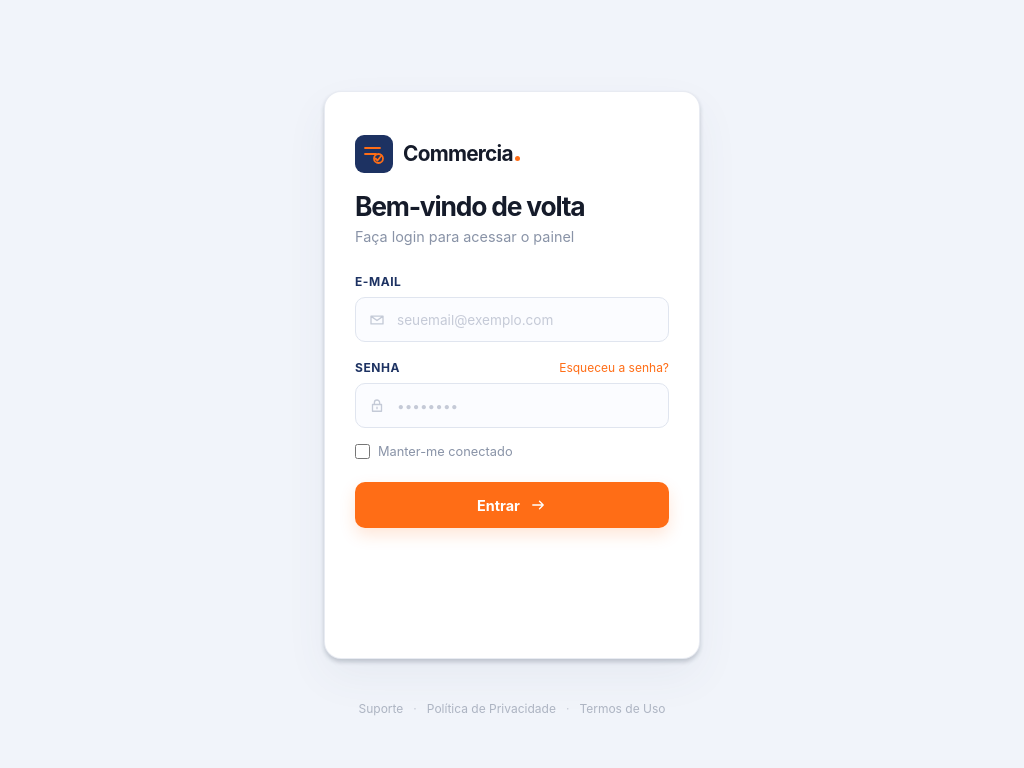
Scenario: retries a failed client list refresh without deactivating the client twice
Type "admin" into the field labelled "E-mail".
click(512, 320); type("admin")  # box [355,297,669,342]
Type "secret" into the password field labelled "Senha".
click(512, 406); type("secret")  # box [355,383,669,428]
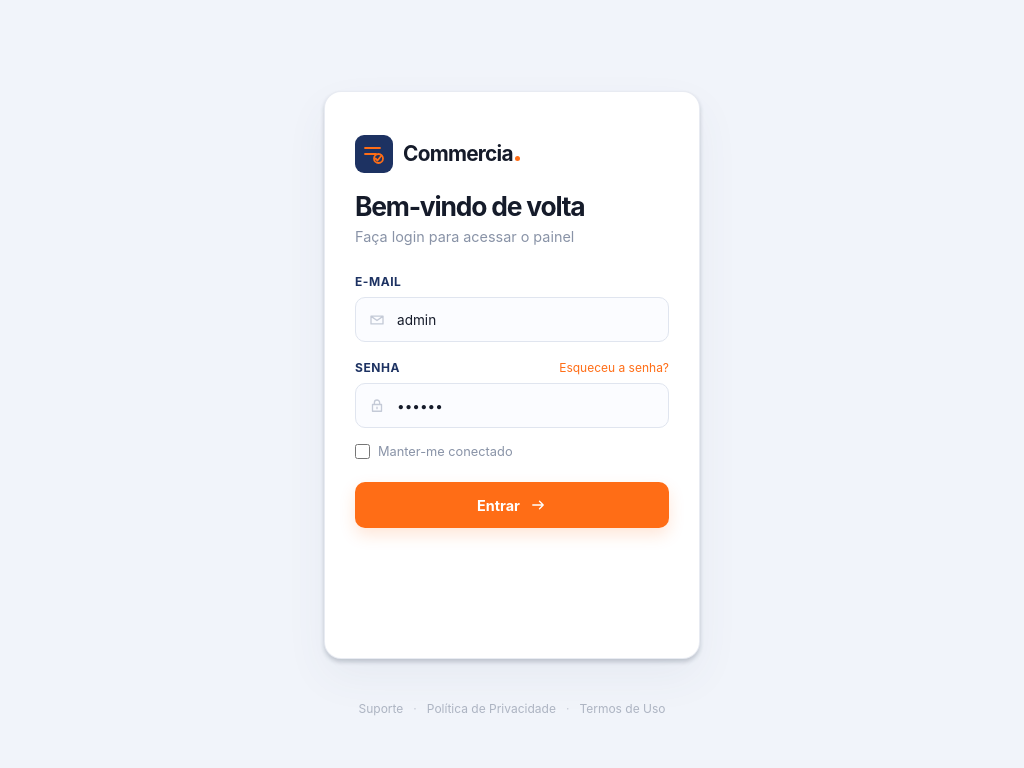
Submit the form "E-mail Senha Esqueceu a senha? Manter-me conectado Entrar", box [355,274,669,528]
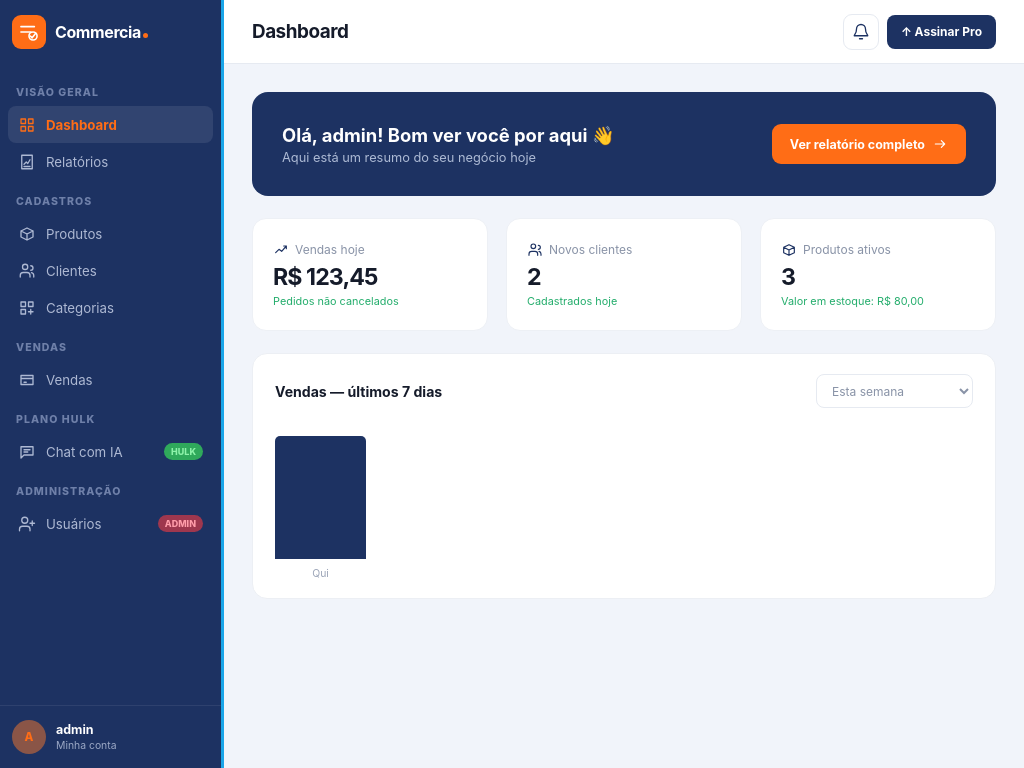
Now the heading "Dashboard" is shown, box [252,20,348,43]
Click the button "Clientes".
click(110, 270)  # box [8,252,213,289]
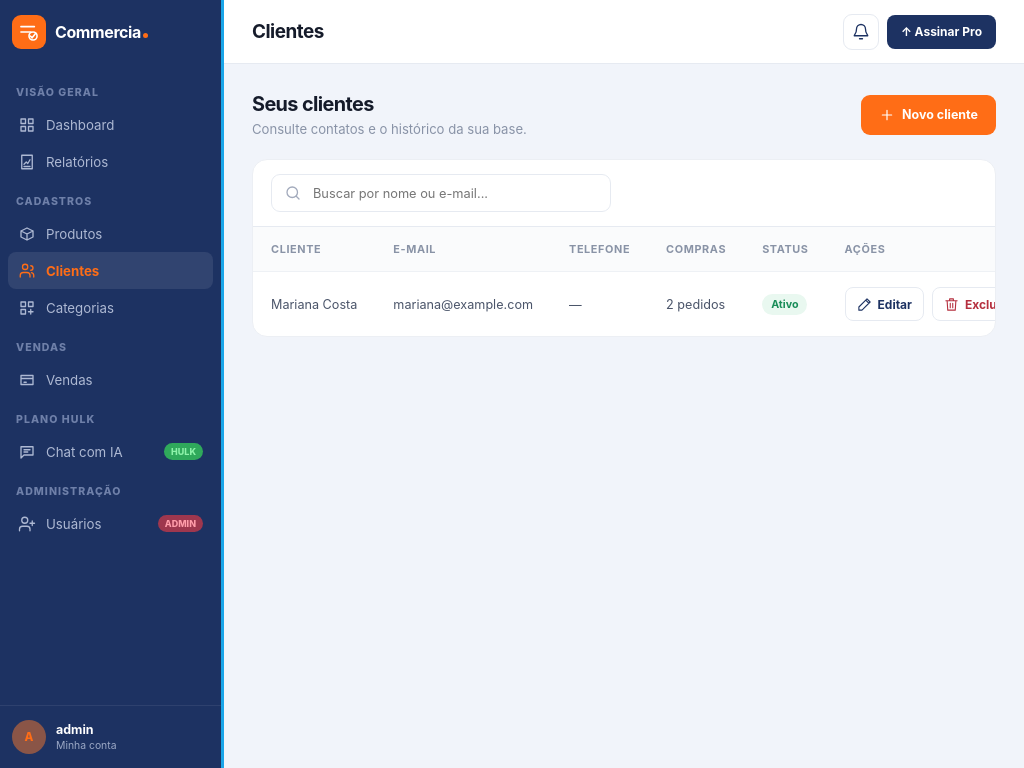
Click the button with aria-label "Excluir Mariana Costa".
click(974, 304)  # box [932,287,1017,321]
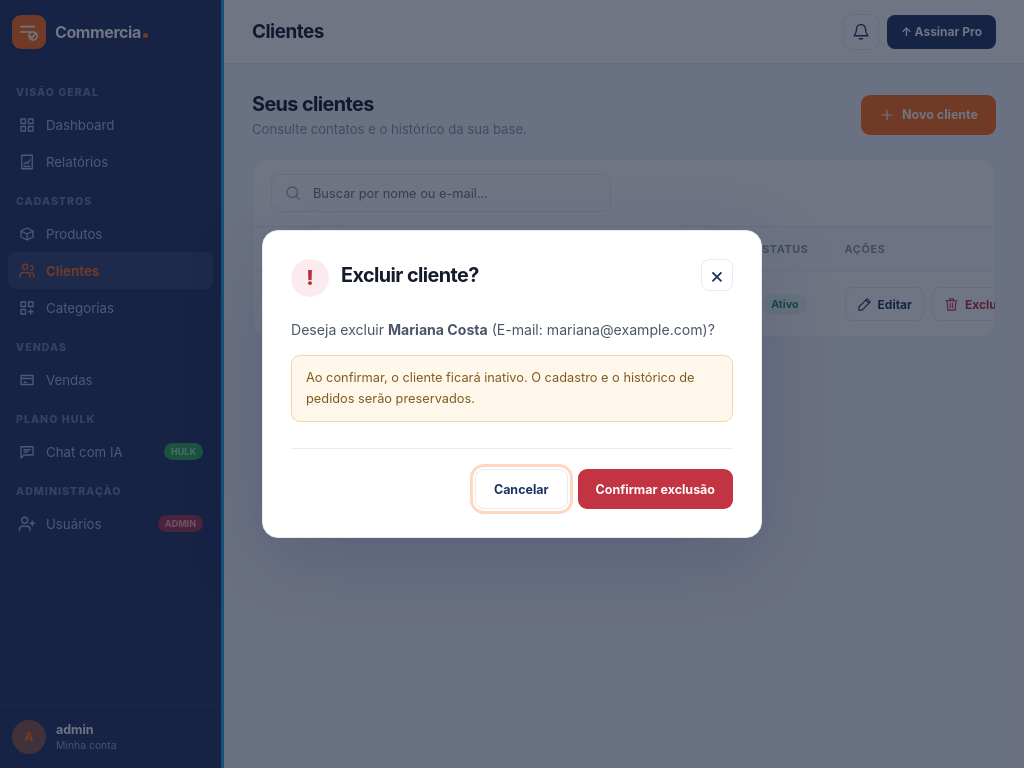
Click the button "Confirmar exclusão".
click(655, 489)  # box [578,469,733,509]
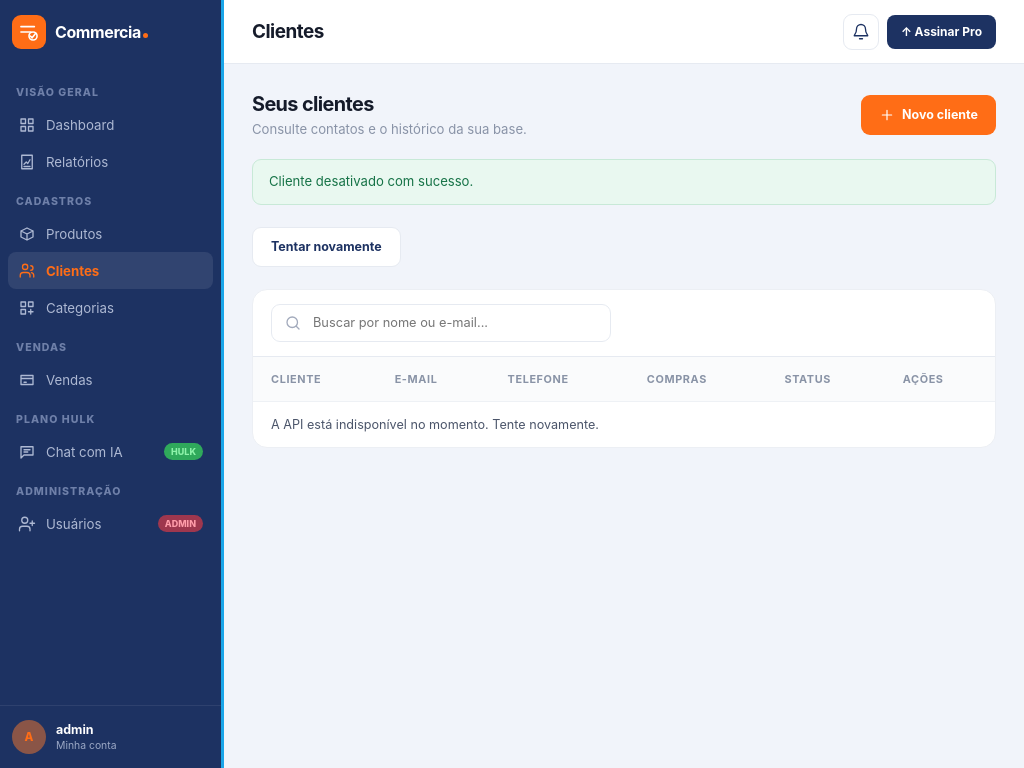
Now the message "A API está indisponível no momento. Tente novamente." is shown, box [253,401,995,447]
Now the text "Cliente desativado com sucesso." is shown, box [252,159,996,205]
Now the dialog is gone
Click the button "Tentar novamente".
click(326, 247)  # box [252,227,401,267]
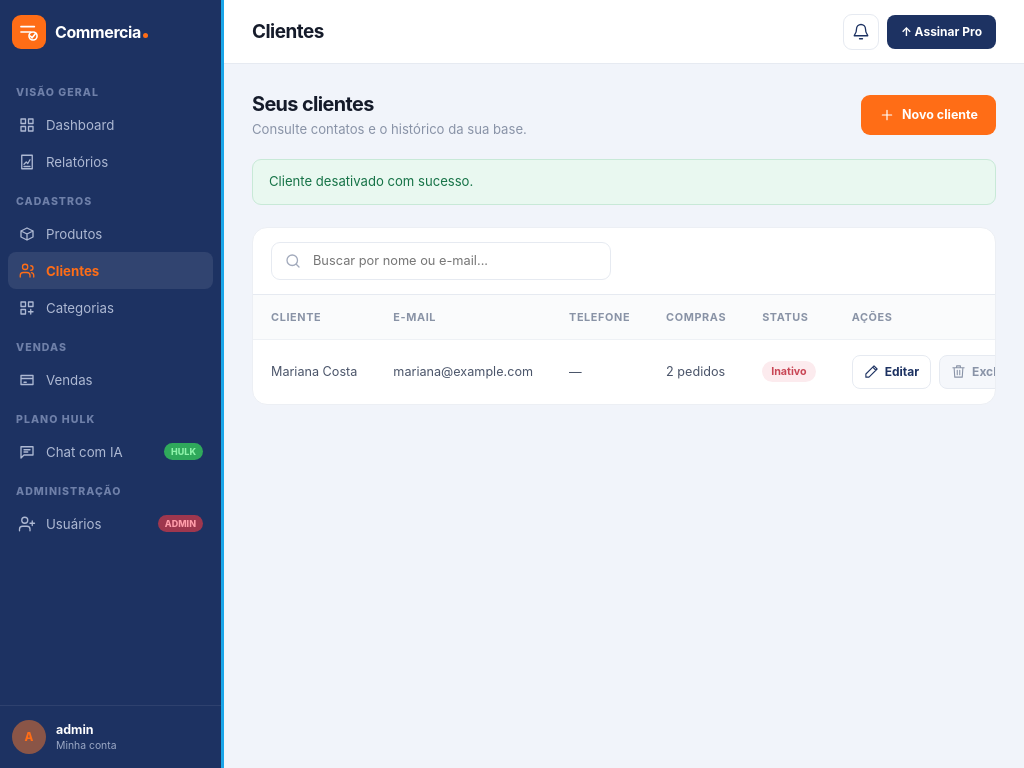
Now the text "Inativo" is shown, box [762,361,816,382]
